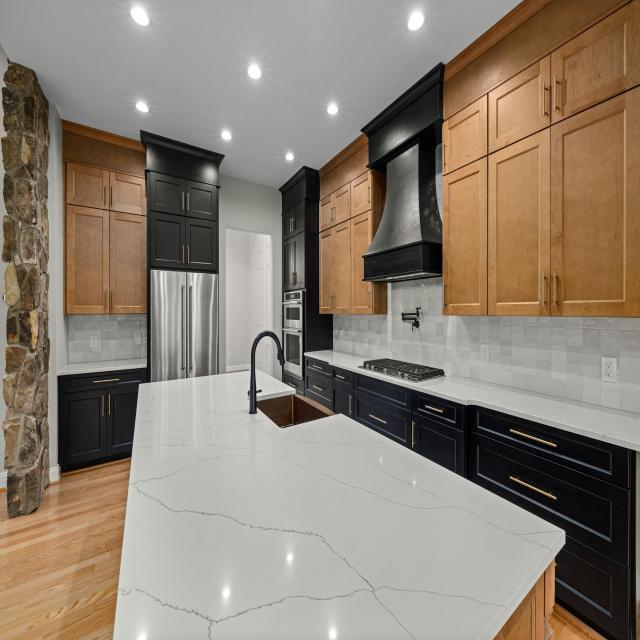Appliance_Fridge: (147, 269, 219, 382)
Appliance_Oven: (283, 328, 302, 379), (283, 290, 303, 333)
Appliance_Sink: (249, 331, 329, 428)
Appliance_Stove: (362, 358, 445, 382)
Cabinet_Inset: (283, 356, 637, 640), (444, 0, 640, 316), (65, 162, 146, 316), (319, 137, 379, 318), (56, 367, 150, 474), (147, 173, 219, 275), (281, 170, 309, 291)
Countertop_Marble: (112, 372, 566, 640), (306, 348, 640, 453), (55, 357, 148, 374), (255, 371, 296, 402)
